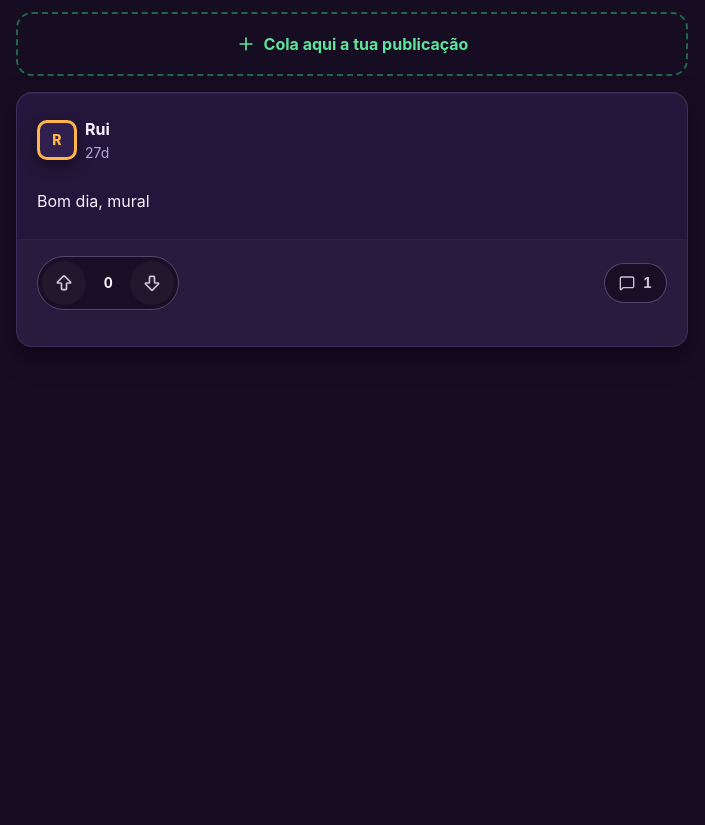
Test: HubFeedModule › when the server refuses › keeps the reply when the comment is not published
The image size is (705, 825).
Click the button named "1 comentários". click: (635, 283)
box: 604,263 -> 667,303
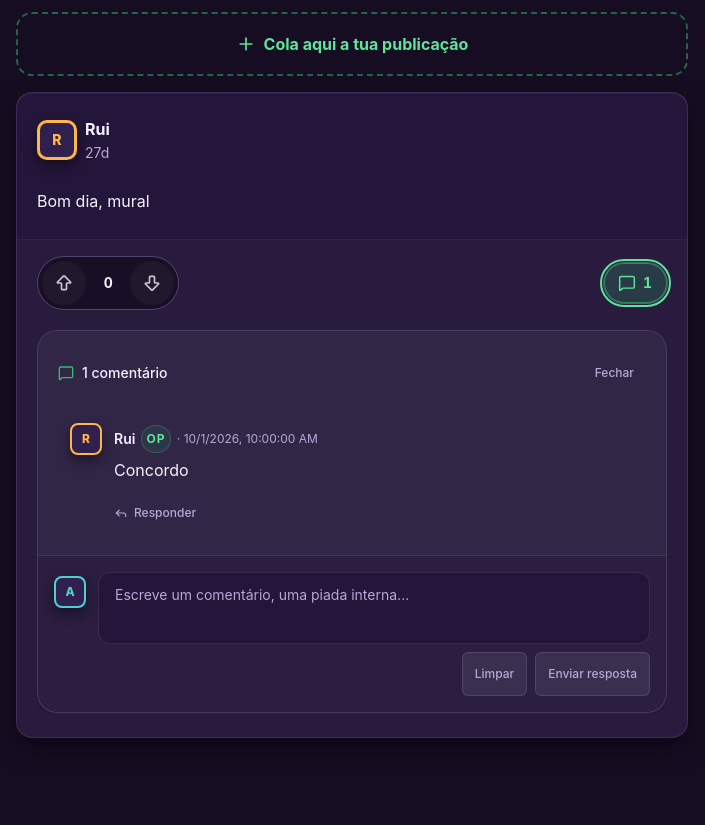
Click the button "Responder". click: (155, 513)
box: 106,491 -> 204,535
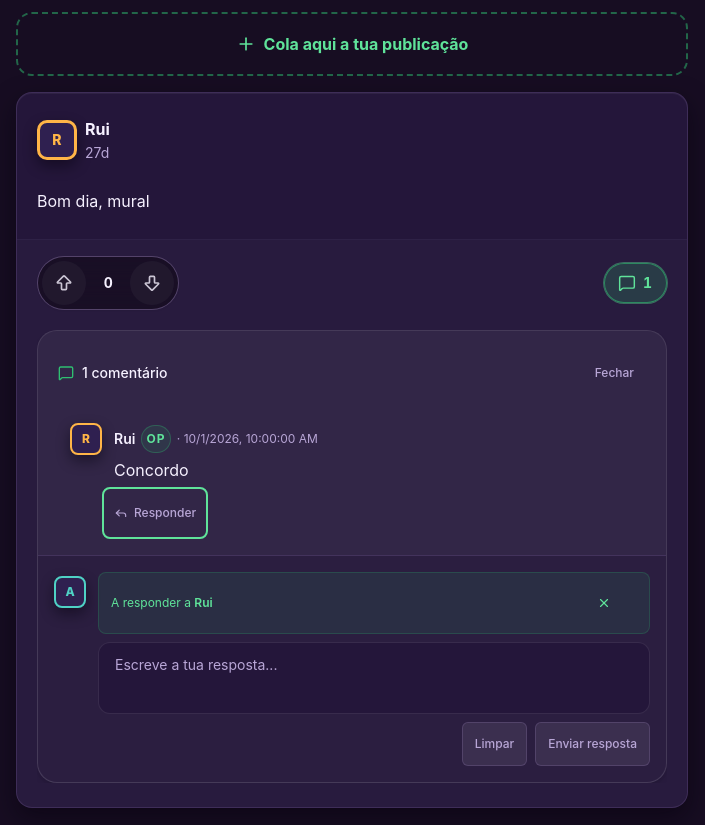
expect the text "A responder a" is shown: met, box 111,595 -> 191,610
Type "Não concordo" into the text box with placeholder "Escreve a tua resposta...". click: (374, 678)
box: 98,642 -> 650,714
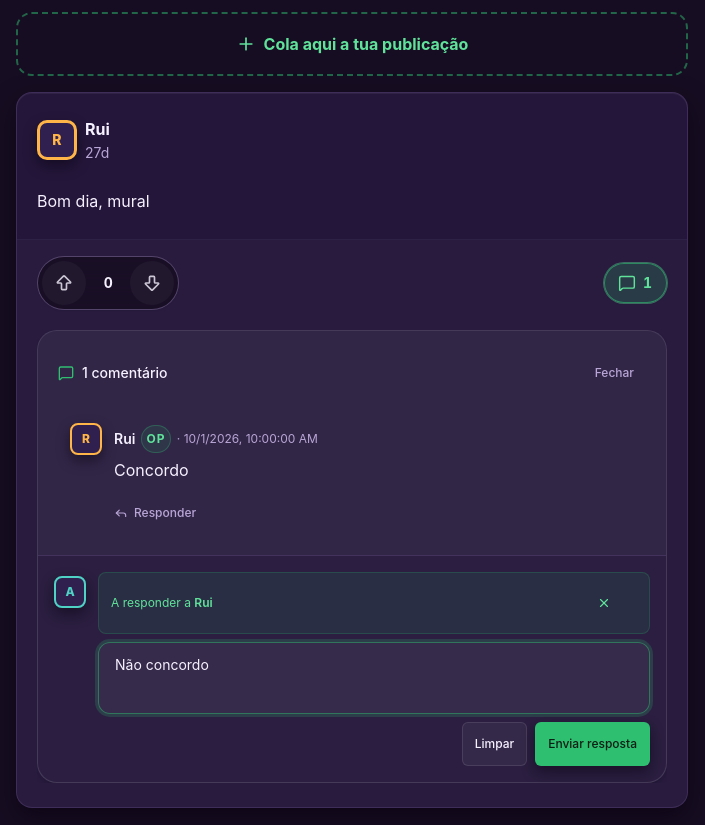
Click the button "Enviar resposta". click: (593, 744)
box: 535,722 -> 650,766
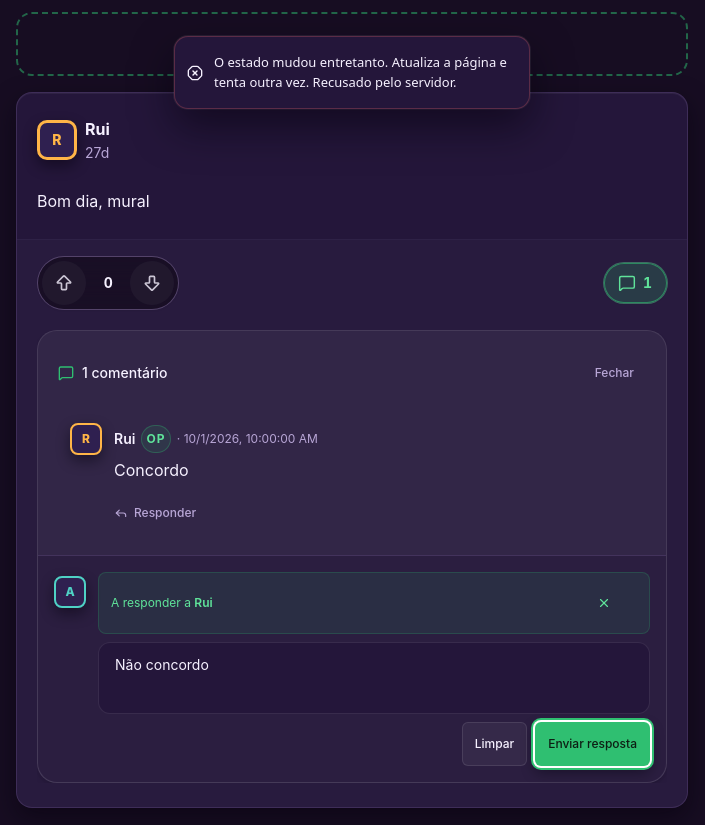
expect the text "Recusado pelo servidor" is shown: met, box 214,53 -> 507,90
Click the button named "Cancelar resposta". click: (615, 603)
box: 593,581 -> 637,625
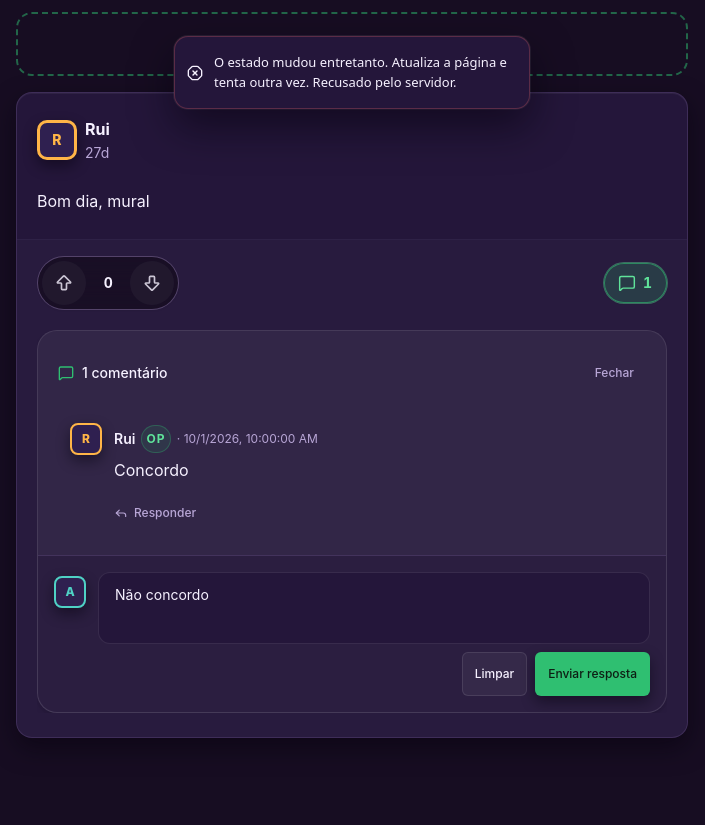
expect the text "A responder a" is gone: met
